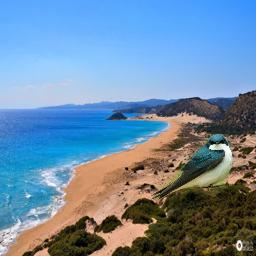Swallow: (149, 134, 233, 200)
